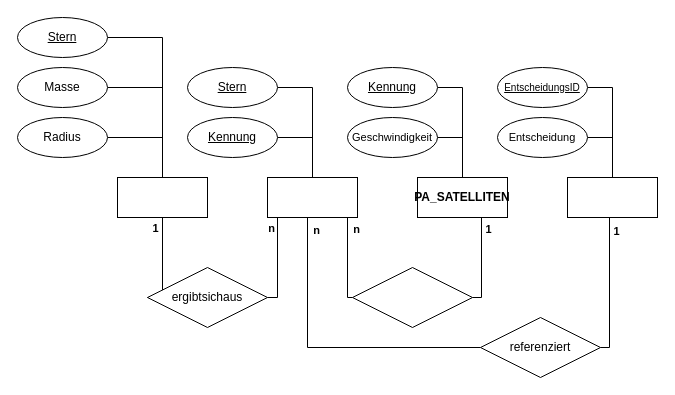
This 675x395 diagram has some shape labels left out. The centre of each missing label's shape, as x and y in pixels:
"gehört" goes at (x=412, y=297).
"PA_REFERENZ" goes at (x=612, y=197).
"PA_RESULT" goes at (x=312, y=197).
"PA_STERNE" goes at (x=162, y=197).
